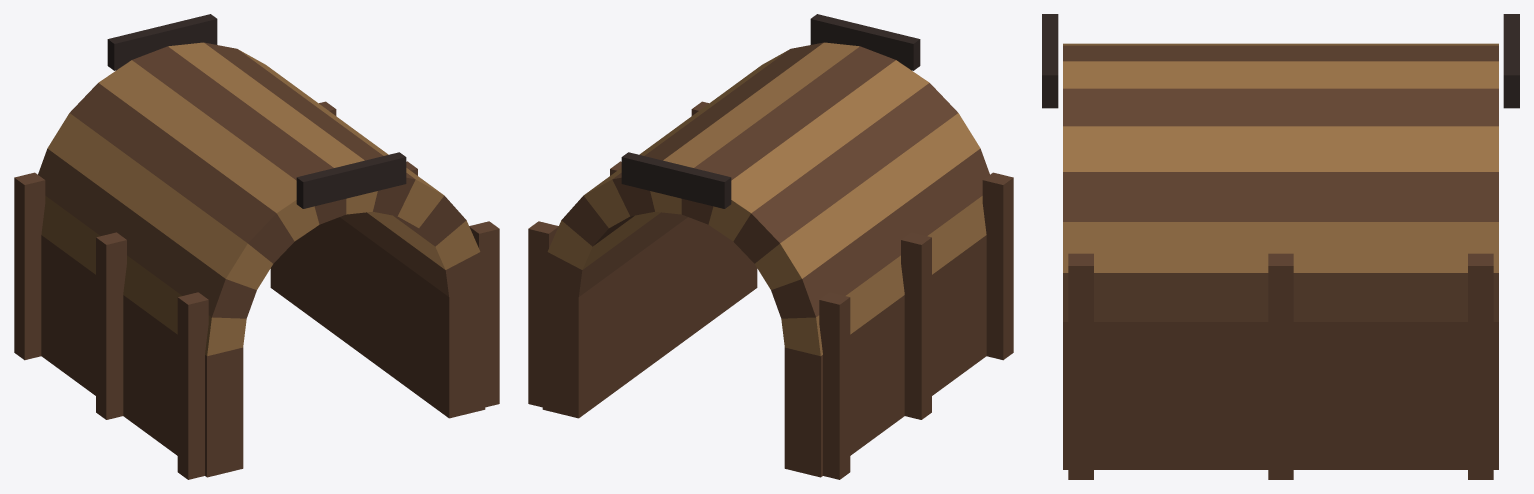
The model's file is PirateCove_ShipwreckTunnel_Standard.glb.
3 views of the same model, side by side, from view 1: azimuth 30°, elevation 25°; view 2: azimuth 150°, elevation 25°; view 3: azimuth 270°, elevation 25° (orthographic). The views are drawn at different scales.
Parts seen in each view (by area): view 1: PirateCove_ShipwreckTunnel_Standard; view 2: PirateCove_ShipwreckTunnel_Standard; view 3: PirateCove_ShipwreckTunnel_Standard.
Part boxes in pixels (x1,y1,x2,y2): PirateCove_ShipwreckTunnel_Standard: [14, 14, 499, 479]; PirateCove_ShipwreckTunnel_Standard: [528, 14, 1013, 479]; PirateCove_ShipwreckTunnel_Standard: [1042, 14, 1519, 479].
Size of the model in its own units: 2.42 by 2.08 by 2.63.
